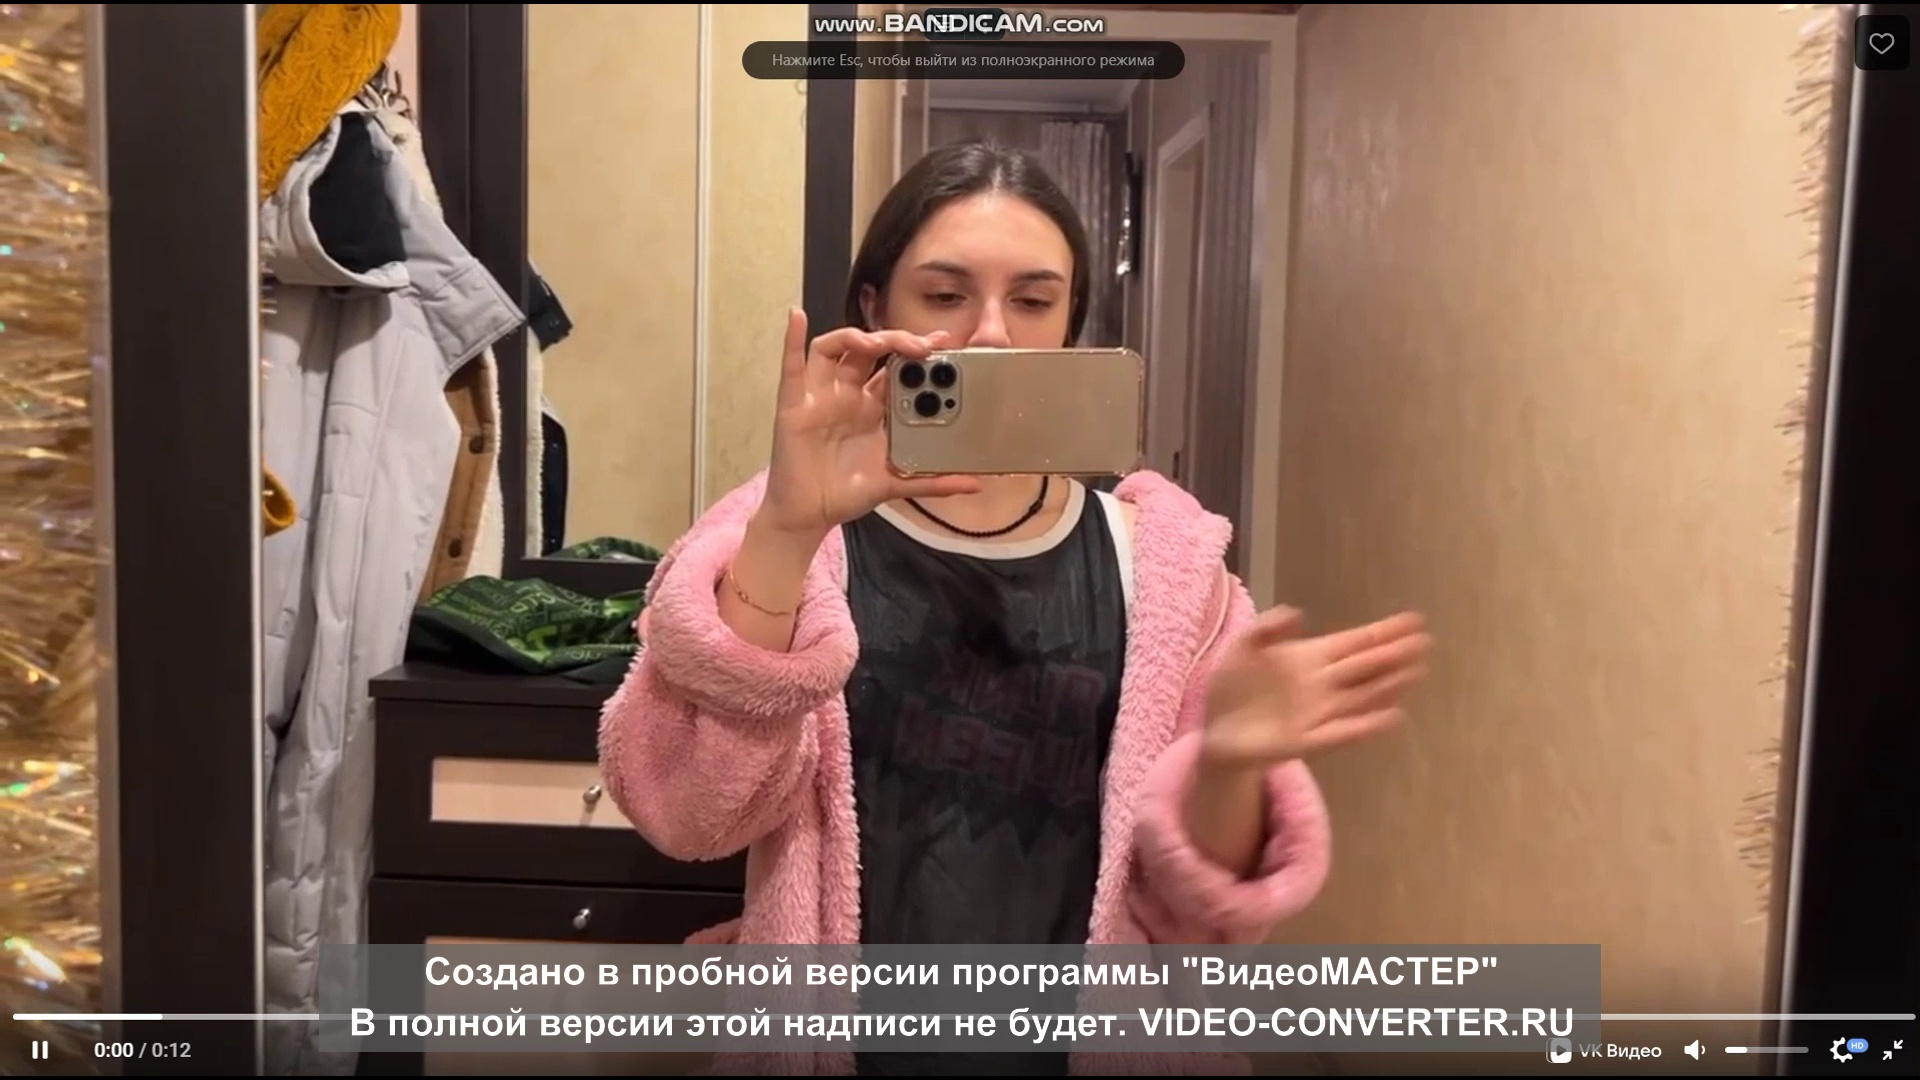Ладонь: (1207, 599, 1429, 758)
